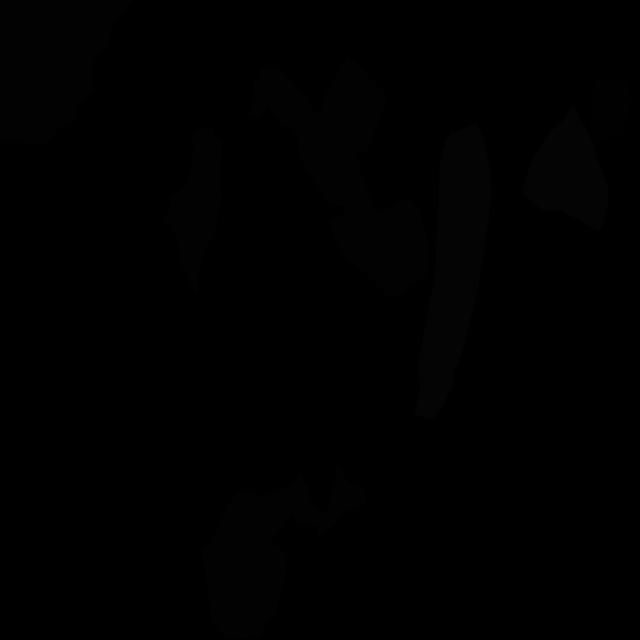cardboard: (247, 55, 387, 244), (162, 127, 223, 292), (337, 197, 428, 299), (202, 543, 287, 639), (281, 463, 367, 538), (210, 490, 291, 558)
rigid_plastic: (590, 79, 630, 141)
soft_plastic: (415, 122, 492, 420), (522, 105, 609, 231)
